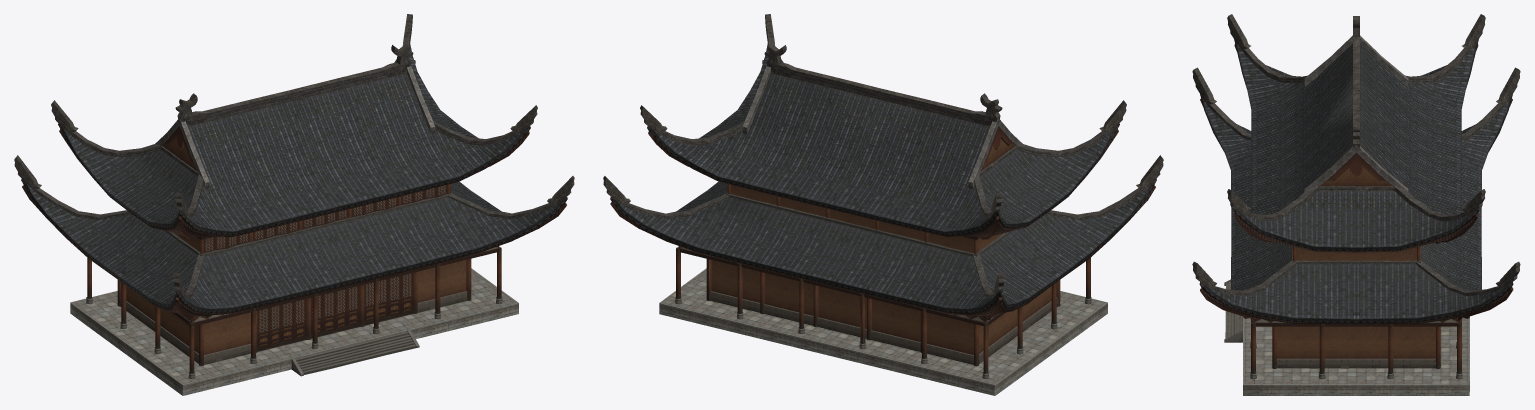
Rendered from cn_ancient_b.glb.
3 renders of one model, left to right at view 1: azimuth 30°, elevation 25°; view 2: azimuth 150°, elevation 25°; view 3: azimuth 270°, elevation 25°, orthographic.
Visible parts, largest first — view 1: HZ_building_026_1, HZ_building_026_2; view 2: HZ_building_026_1, HZ_building_026_2; view 3: HZ_building_026_1, HZ_building_026_2.
Boxes of the visible parts, x1,y1,x2,y2 form: HZ_building_026_1: (14,14,574,378); HZ_building_026_2: (22,66,566,395); HZ_building_026_1: (603,14,1163,379); HZ_building_026_2: (610,66,1155,395); HZ_building_026_1: (1192,14,1520,379); HZ_building_026_2: (1200,35,1513,395).
Size of the model in its own units: 10.44 by 6.06 by 7.35.
Materials: 2 (2 with a texture image).
